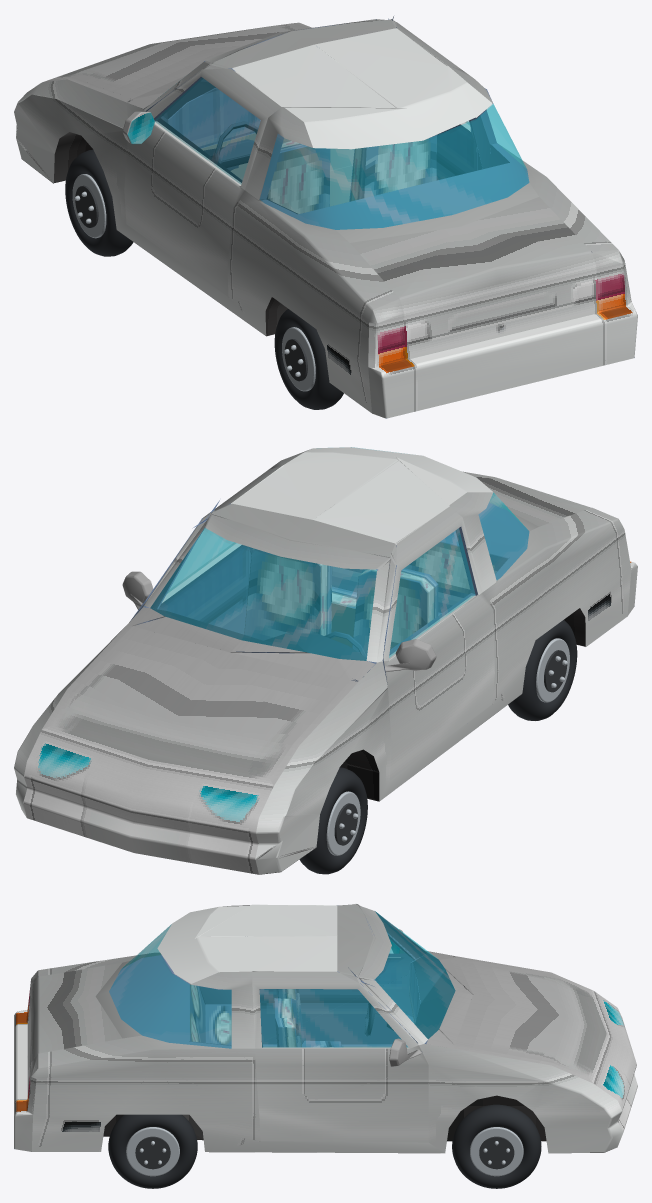
Rendered from car-elect_v.glb.
3 renders of one model, top to bottom at view 1: azimuth 30°, elevation 25°; view 2: azimuth 150°, elevation 25°; view 3: azimuth 270°, elevation 25°, orthographic. The views are drawn at different scales.
Parts seen in each view (by area): view 1: elect_vShape.002, TrunkRotShape.009, elect_vShape.005, elect_vShape.001, elect_vShape.007, elect_vShape.008, DoorDRotShape.061, HoodRotShape.008, DoorDRotShape.064, Rounded tire.090, Rounded tire.089, DoorPRotShape.070 (+8 smaller); view 2: elect_vShape.002, elect_vShape.004, HoodRotShape.008, elect_vShape.007, elect_vShape.005, DoorDRotShape.061, elect_vShape.008, DoorDRotShape.064, DoorPRotShape.070, Rounded tire.090, Rounded tire.089, TrunkRotShape.009 (+10 smaller); view 3: elect_vShape.002, elect_vShape.003, DoorPRotShape.068, elect_vShape.005, elect_vShape.007, HoodRotShape.008, elect_vShape.008, DoorPRotShape.071, elect_vShape.004, DoorDRotShape.063, TrunkRotShape.009, Rounded tire.091 (+9 smaller).
Boxes of the visible parts, left/top/right/bottom form: elect_vShape.002: left=14, top=19, right=618, bottom=412; TrunkRotShape.009: left=350, top=197, right=598, bottom=359; elect_vShape.005: left=161, top=19, right=634, bottom=418; elect_vShape.001: left=336, top=183, right=637, bottom=418; elect_vShape.007: left=260, top=104, right=528, bottom=229; elect_vShape.008: left=232, top=28, right=492, bottom=149; DoorDRotShape.061: left=124, top=68, right=281, bottom=296; HoodRotShape.008: left=52, top=23, right=305, bottom=98; DoorDRotShape.064: left=154, top=78, right=260, bottom=184; Rounded tire.090: left=65, top=149, right=133, bottom=256; Rounded tire.089: left=274, top=309, right=343, bottom=409; DoorPRotShape.070: left=388, top=16, right=476, bottom=180; elect_vShape.002: left=14, top=449, right=634, bottom=874; elect_vShape.004: left=23, top=607, right=375, bottom=874; HoodRotShape.008: left=51, top=626, right=350, bottom=778; elect_vShape.007: left=151, top=447, right=528, bottom=660; elect_vShape.005: left=133, top=502, right=529, bottom=681; DoorDRotShape.061: left=383, top=507, right=494, bottom=780; elect_vShape.008: left=231, top=447, right=492, bottom=545; DoorDRotShape.064: left=389, top=528, right=475, bottom=657; DoorPRotShape.070: left=130, top=500, right=249, bottom=634; Rounded tire.090: left=299, top=767, right=367, bottom=874; Rounded tire.089: left=508, top=620, right=577, bottom=720; TrunkRotShape.009: left=463, top=471, right=590, bottom=526; elect_vShape.002: left=17, top=904, right=623, bottom=1153; elect_vShape.003: left=31, top=1048, right=444, bottom=1153; DoorPRotShape.068: left=255, top=1045, right=428, bottom=1142; elect_vShape.005: left=14, top=911, right=455, bottom=1149; elect_vShape.007: left=109, top=911, right=455, bottom=1048; HoodRotShape.008: left=455, top=957, right=599, bottom=1077; elect_vShape.008: left=157, top=904, right=337, bottom=983; DoorPRotShape.071: left=260, top=989, right=407, bottom=1047; elect_vShape.004: left=426, top=951, right=637, bottom=1131; DoorDRotShape.063: left=259, top=905, right=415, bottom=1045; TrunkRotShape.009: left=27, top=963, right=122, bottom=1096; Rounded tire.091: left=452, top=1104, right=541, bottom=1188.
Size of the model in its own units: 2.49 by 1.97 by 5.3.
Materials: 13 (10 with a texture image).
